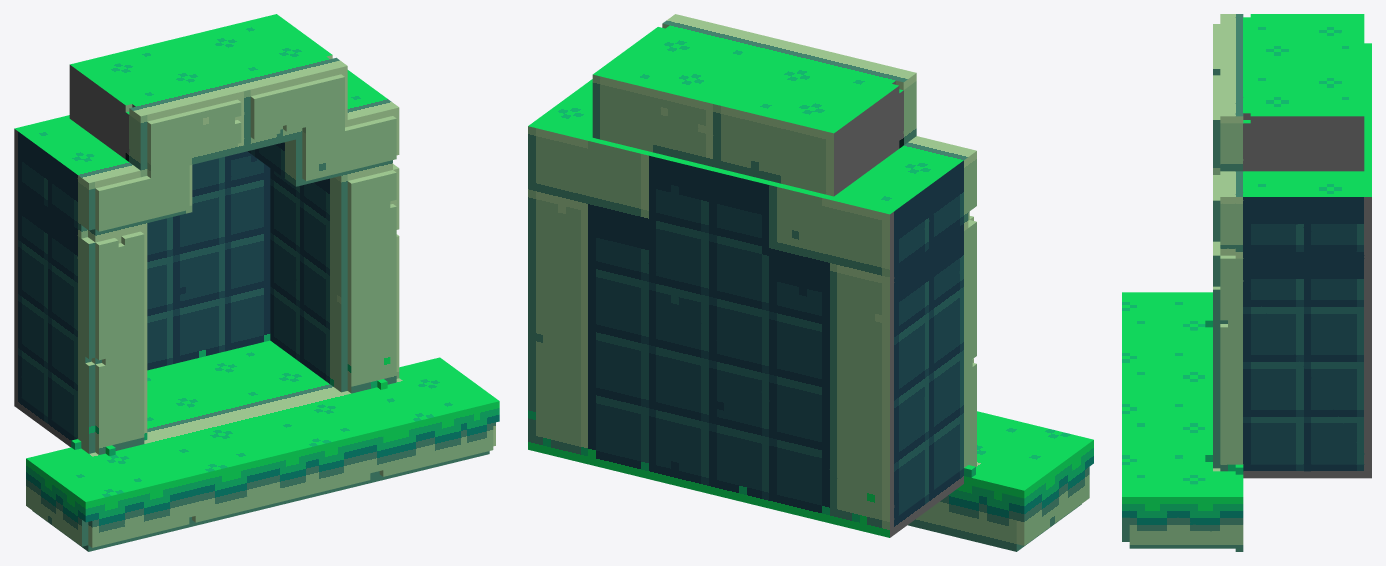
Rendered from grave_alcoveao.fezao.glb.
The picture shows the model from 3 angles, left to right: view 1: azimuth 30°, elevation 25°; view 2: azimuth 150°, elevation 25°; view 3: azimuth 270°, elevation 25°; orthographic projection. The views are drawn at different scales.
Visible parts, largest first — view 1: GRAVE_ALCOVEAO; view 2: GRAVE_ALCOVEAO; view 3: GRAVE_ALCOVEAO.
Boxes of the visible parts, x1=… form: GRAVE_ALCOVEAO: x1=14, y1=14, x2=499, y2=551; GRAVE_ALCOVEAO: x1=528, y1=14, x2=1093, y2=551; GRAVE_ALCOVEAO: x1=1122, y1=14, x2=1371, y2=551.
Bounding box in the file's own units: 4 × 3.5 × 2.06.
Materials: 1 (1 with a texture image).
